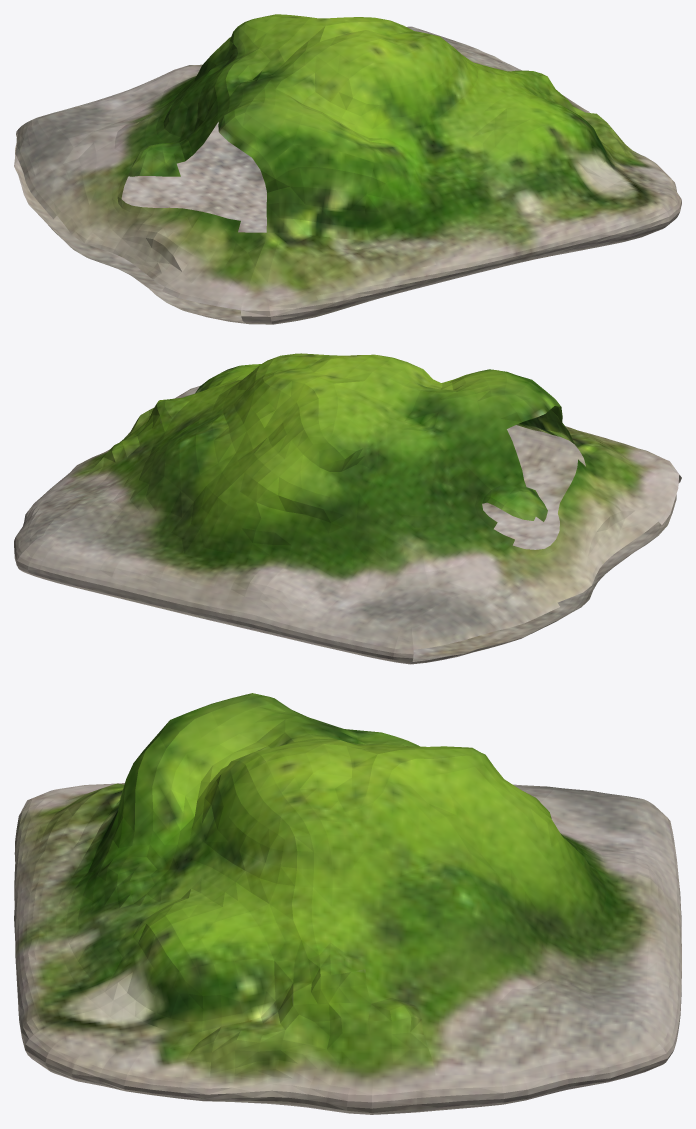
The model's file is tree1.glb.
3 renders of one model, top to bottom at view 1: azimuth 30°, elevation 25°; view 2: azimuth 150°, elevation 25°; view 3: azimuth 270°, elevation 25°, orthographic. The views are drawn at different scales.
Visible parts, largest first — view 1: geometry_0; view 2: geometry_0; view 3: geometry_0.
Boxes of the visible parts, x1=… form: geometry_0: x1=14, y1=14, x2=681, y2=324; geometry_0: x1=14, y1=353, x2=681, y2=664; geometry_0: x1=14, y1=693, x2=681, y2=1114.
Bounding box in the file's own units: 0.7699 × 0.2493 × 0.6974.
1 material, 1 textured.
